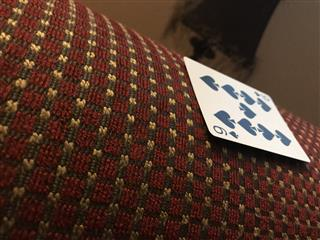NineOfSpades: (182, 55, 311, 163)
